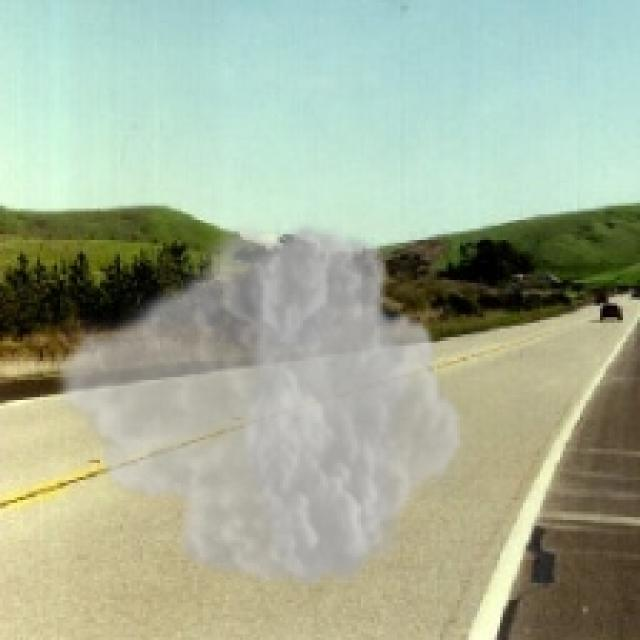smoke: (49, 214, 468, 597)
